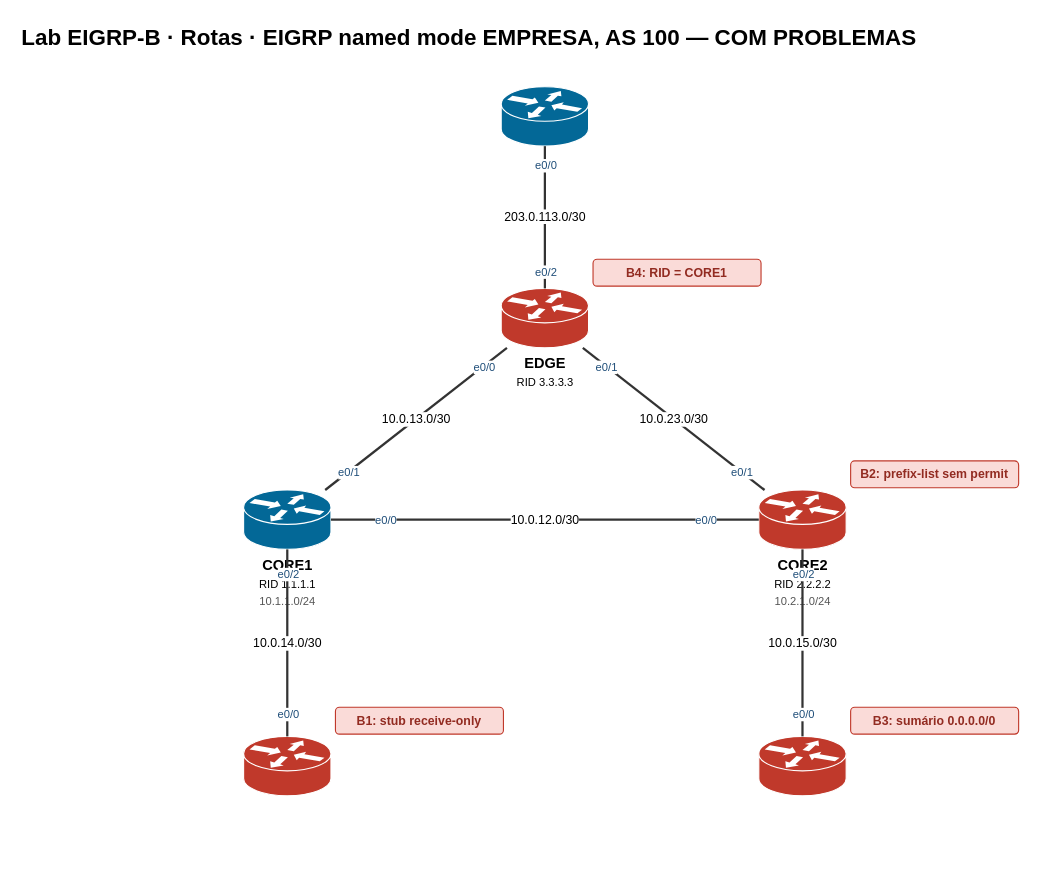
Some shapes in this 1046 by 892 pixel diagram are drawn without their labels. Each missing label, with the centre of its shape:
"BR1 RID 11.11.11.11 10.11.1.0/24 10.11.2.0/24" belongs at point 286,765.
"BR2 RID 12.12.12.12 10.12.0.0/22 (4 LANs)" belongs at point 802,765.
"ISP 8.8.8.8" belongs at point 544,116.
